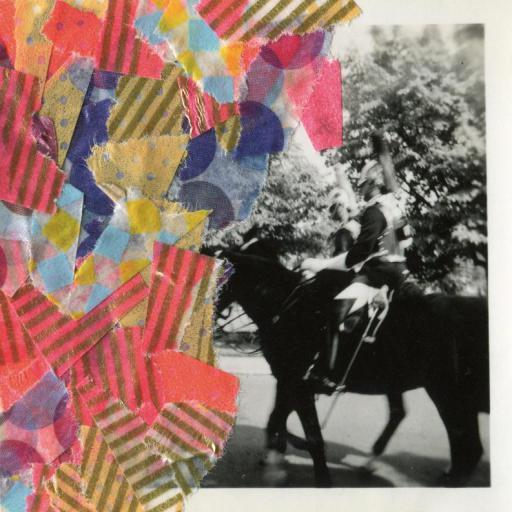horse: (200, 240, 490, 489), (233, 226, 427, 477)
